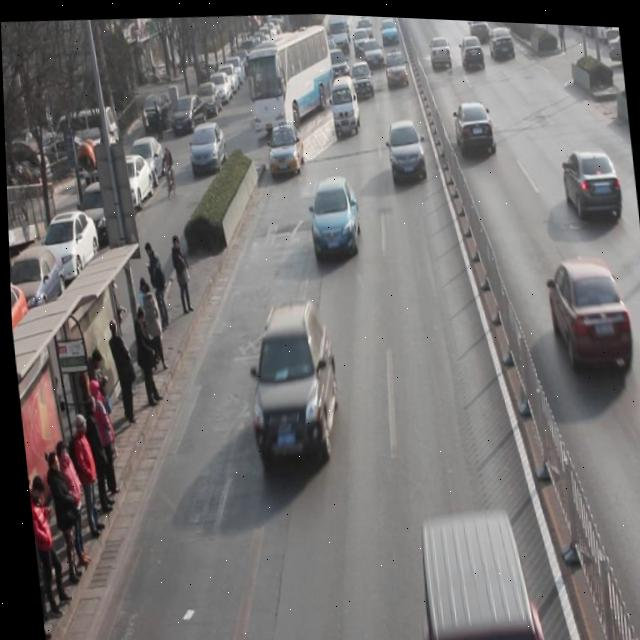car: (406, 504, 543, 640), (239, 293, 343, 470), (545, 249, 634, 369), (304, 170, 362, 262), (560, 140, 623, 219), (385, 116, 427, 183), (451, 95, 495, 153), (264, 119, 305, 176), (488, 20, 516, 59), (325, 44, 351, 86), (349, 58, 375, 99), (459, 30, 486, 68), (383, 46, 409, 85), (428, 31, 452, 67)
truck: (328, 71, 361, 136)
van: (241, 19, 338, 132)
